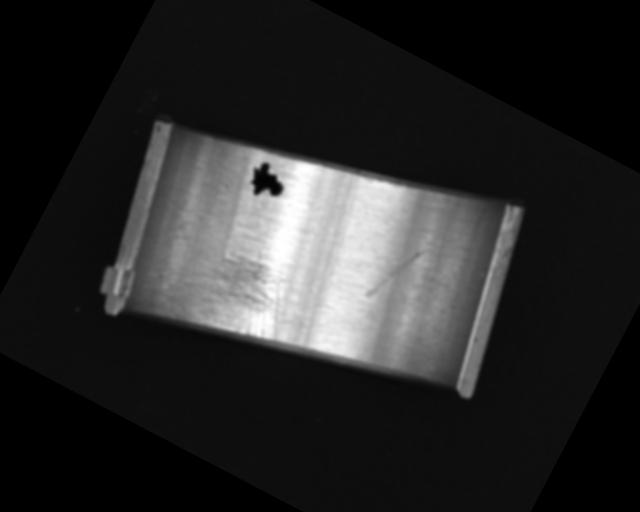blot: (242, 156, 292, 206)
nick: (300, 173, 379, 294), (363, 232, 429, 313)
scratch: (157, 220, 310, 368)
